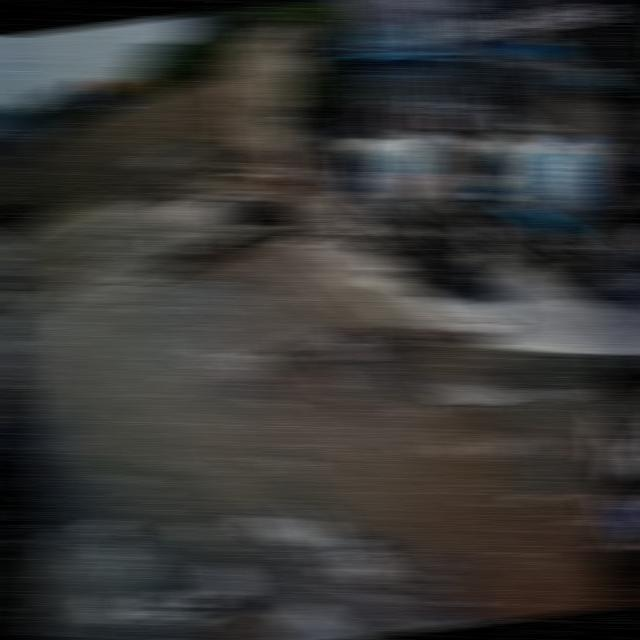cement_mixer_truck: (336, 108, 504, 312), (465, 131, 629, 303), (555, 333, 640, 604), (464, 92, 564, 142)
